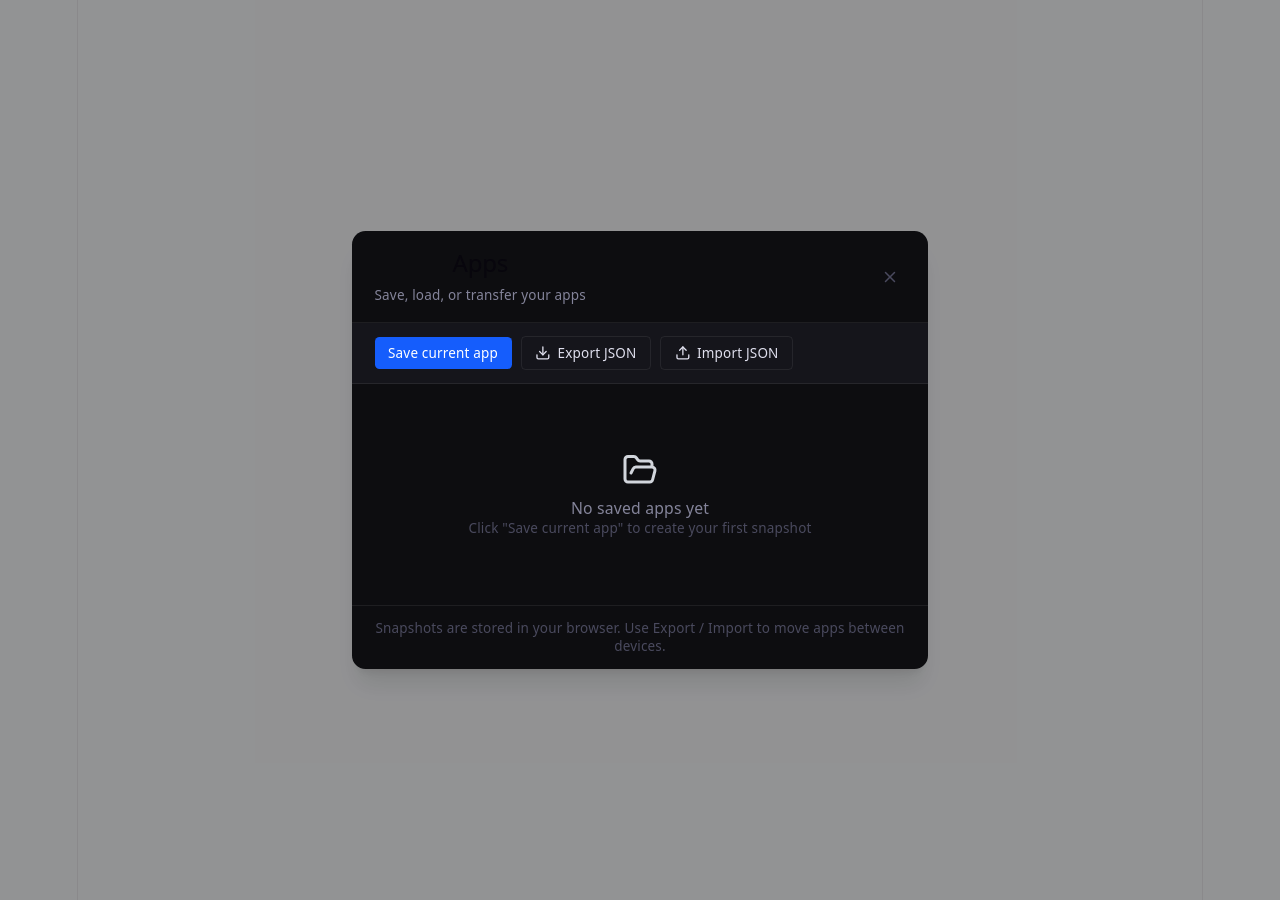
Test: save button › refreshes the list after saving
Check: the text "My App" is not shown
Click the button "Save current app" at (443, 353), box [374, 337, 512, 369]
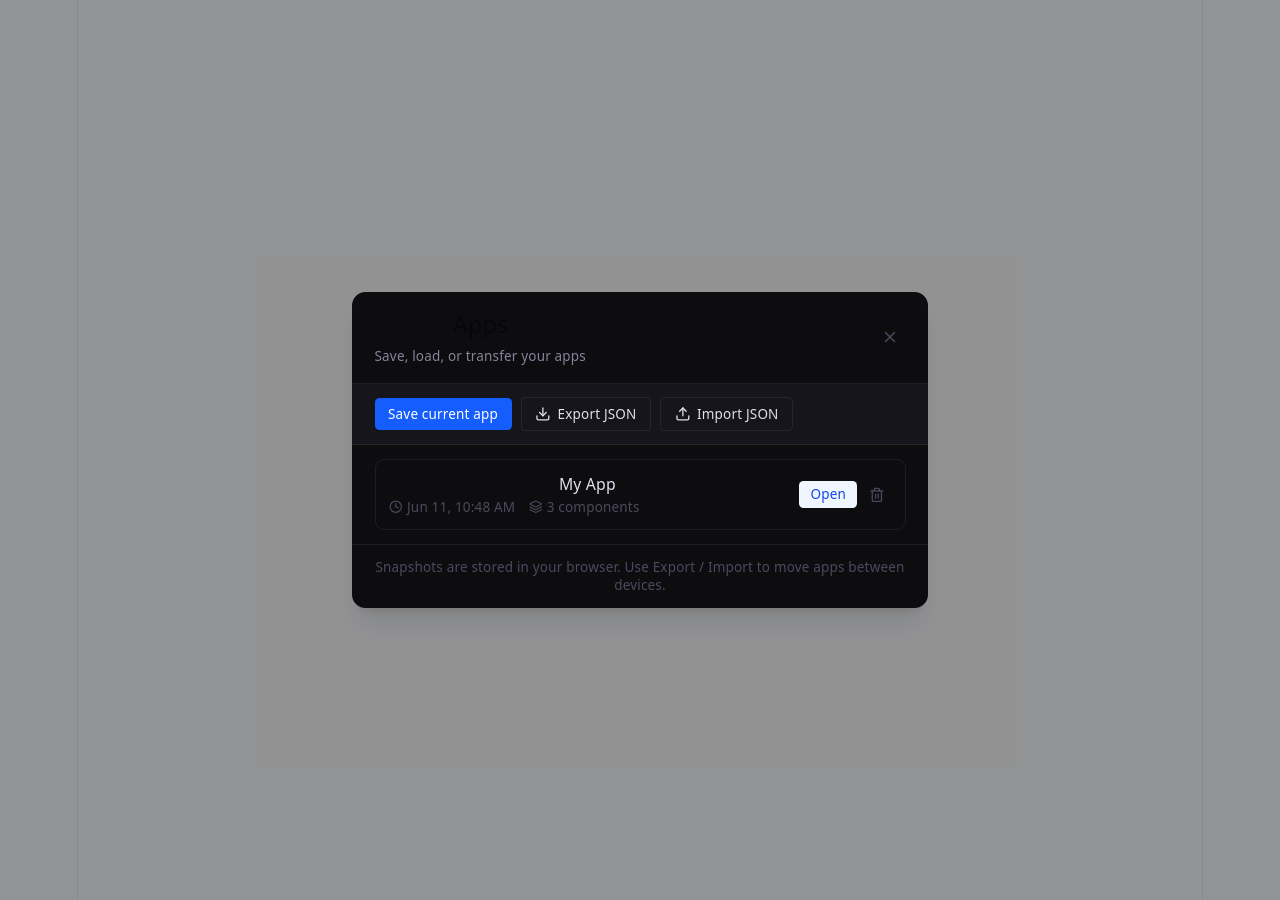
Check: the text "My App" is shown, box [559, 473, 616, 495]
